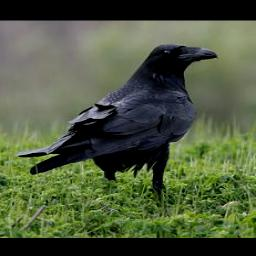Crow: (16, 43, 217, 202)
